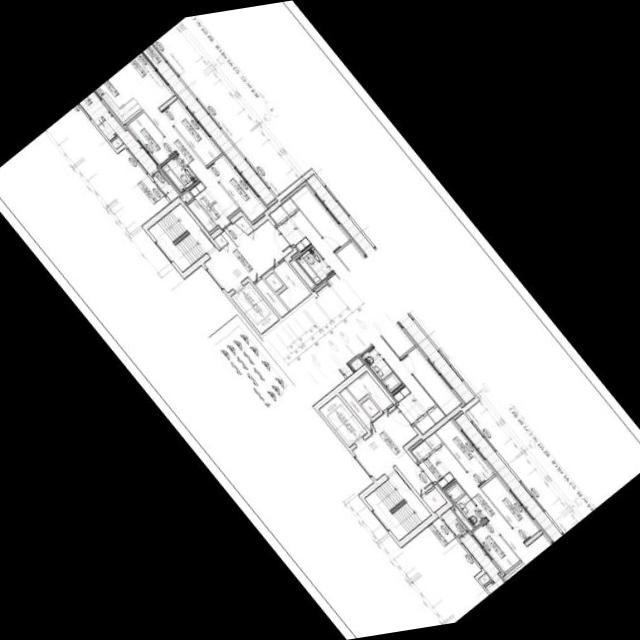background: (0, 0, 640, 640)
space_balconi: (143, 44, 275, 204), (455, 412, 563, 542), (80, 92, 158, 175), (459, 532, 504, 594)
space_bedroom: (435, 418, 495, 485), (162, 98, 222, 165), (208, 154, 267, 221), (481, 475, 540, 541), (127, 111, 176, 164), (472, 520, 520, 572)
space_elevator: (231, 281, 279, 333), (319, 395, 367, 446)
space_elevator_hall: (352, 404, 433, 495), (204, 219, 293, 292)
space_front: (412, 440, 454, 488), (189, 180, 230, 228)
space_kitchen: (96, 74, 142, 124)
space_living_room: (115, 53, 239, 215), (424, 432, 552, 565)
space_other: (274, 260, 311, 309), (347, 370, 392, 410), (339, 388, 370, 431), (255, 278, 288, 317), (188, 199, 216, 231), (152, 171, 179, 201), (441, 508, 467, 537), (422, 487, 447, 511), (453, 506, 473, 530), (361, 397, 379, 417), (265, 272, 283, 291), (234, 216, 253, 234), (214, 233, 228, 247), (111, 137, 123, 148), (478, 573, 490, 584), (182, 191, 193, 203)
space_staircase: (148, 203, 215, 271), (365, 471, 431, 540)
space_toilet: (444, 481, 486, 527), (161, 154, 197, 191)
